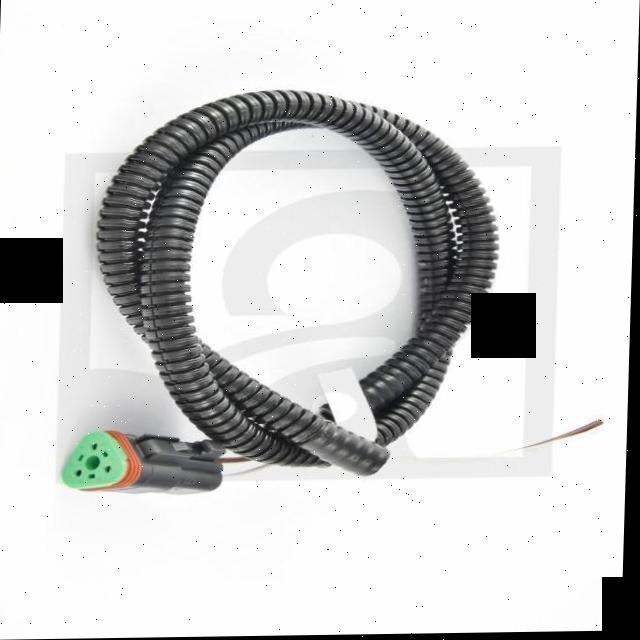connector: (64, 430, 227, 493)
